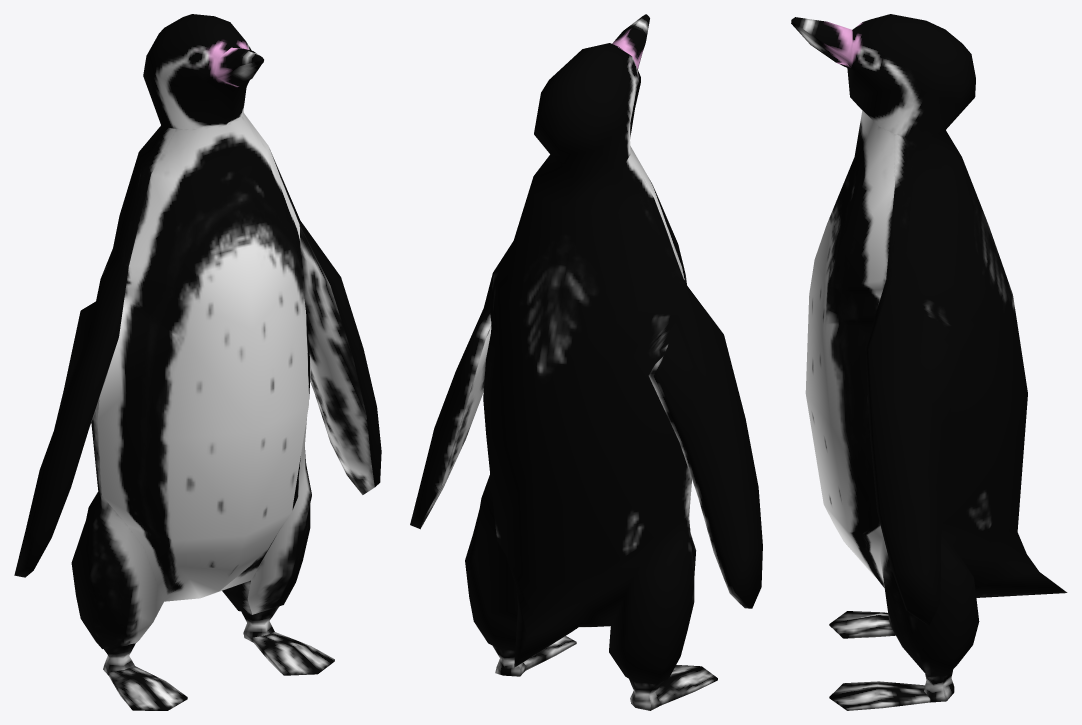
File: grapem1.obj
3 views of the same model, side by side, from view 1: azimuth 30°, elevation 25°; view 2: azimuth 150°, elevation 25°; view 3: azimuth 270°, elevation 25° (orthographic). The views are drawn at different scales.
Visible parts, largest first — view 1: Box003.003; view 2: Box003.003; view 3: Box003.003.
Part boxes in pixels (x1,y1,x2,y2): Box003.003: [14, 14, 381, 710]; Box003.003: [410, 14, 762, 710]; Box003.003: [791, 14, 1067, 710].
Bounding box in the file's own units: 3.28 × 5.74 × 2.22.
